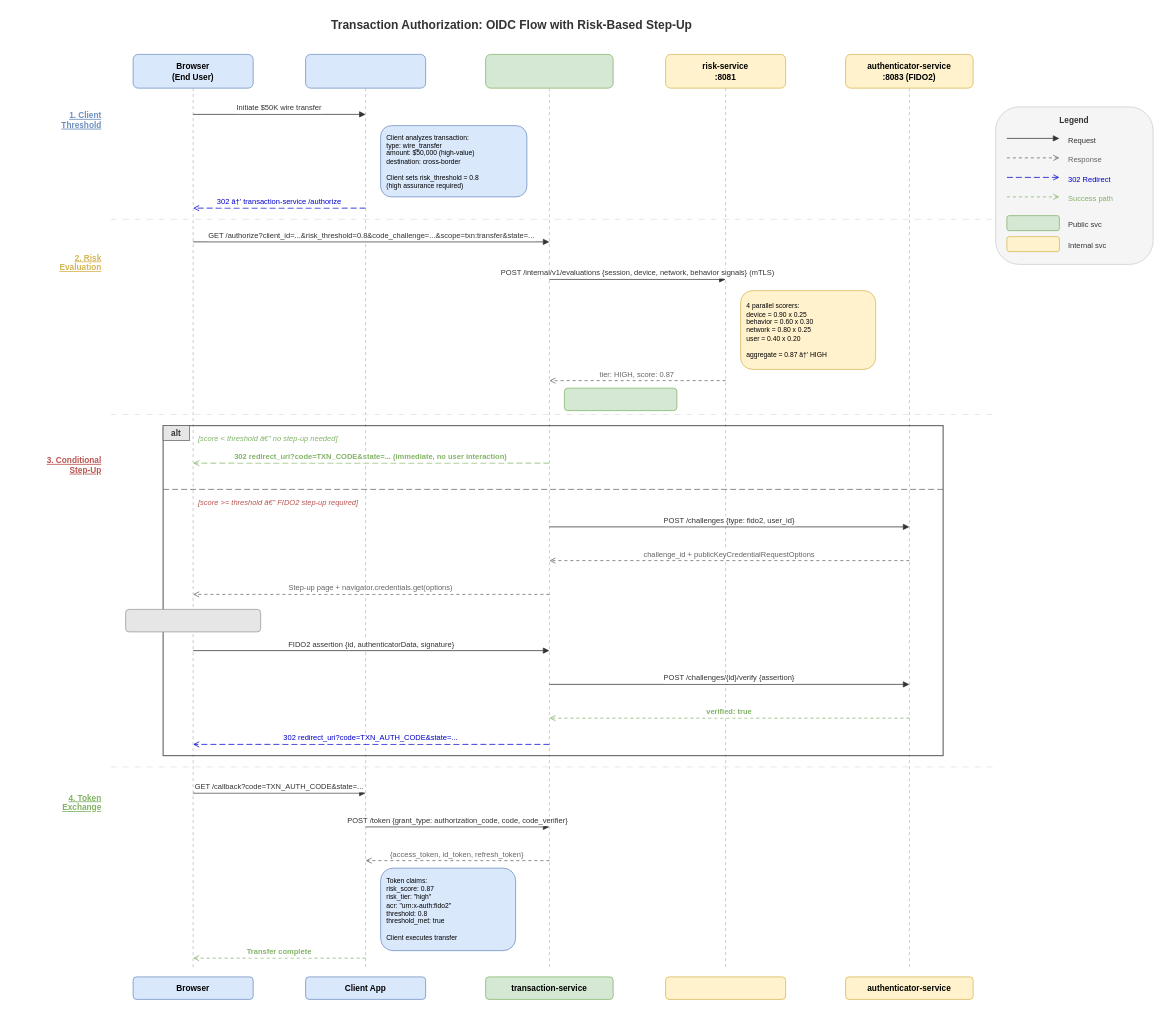
The diagram is 1166 pixels wide and 1013 high, and some of its shapes have lost their labels. Here are the shapes that lost their labels. From the top down, the centre of each, then its label:
the point at 365,71: Client App (Customer Backend)
the point at 549,71: transaction-service :8080 (advice + authorization)
the point at 620,399: 0.87 >= threshold 0.8 â†’ step-up required
the point at 193,620: User touches security key or performs biometric scan
the point at 725,987: risk-service
